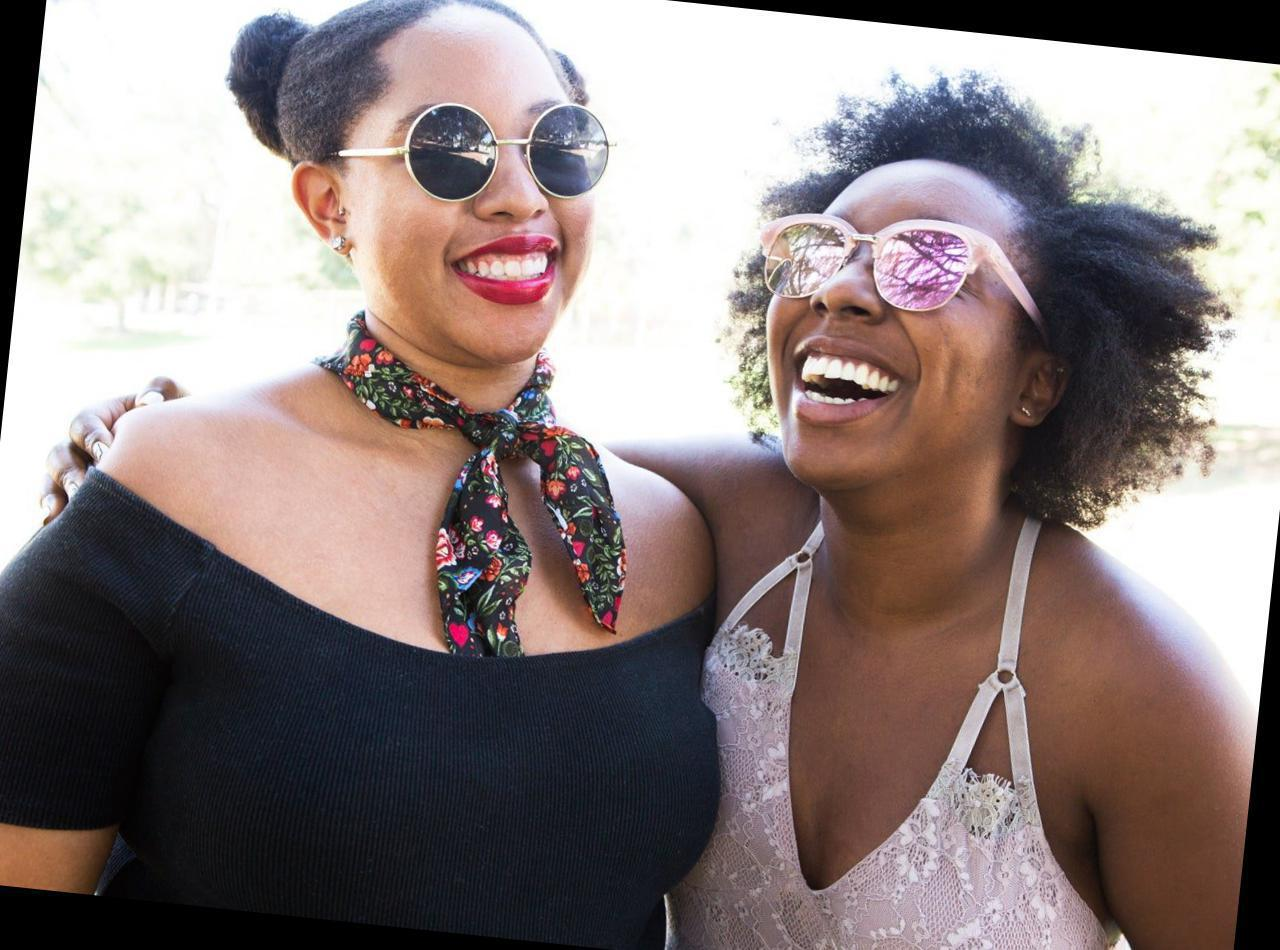Sober: (363, 24, 588, 349), (781, 148, 996, 475)
